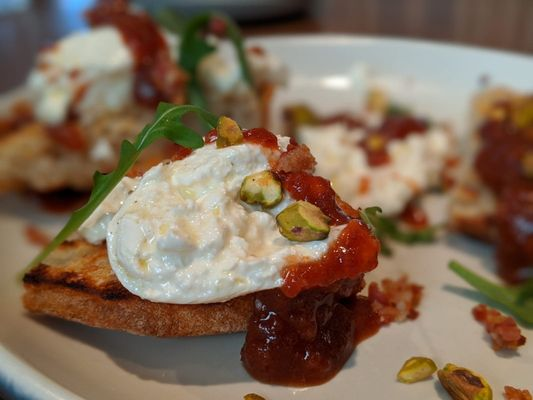soup: (16, 100, 396, 361)
